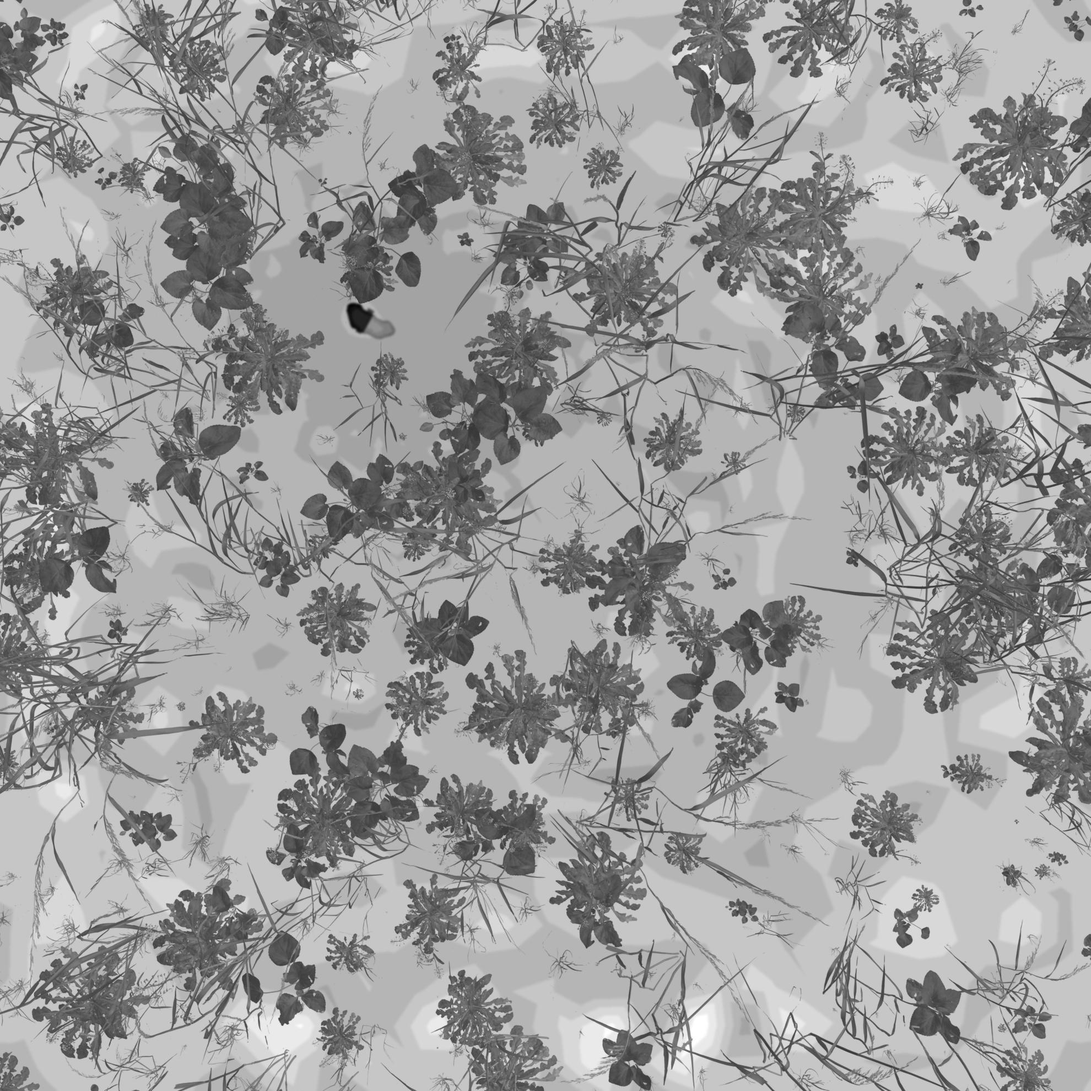landmine: (345, 300, 395, 341)
